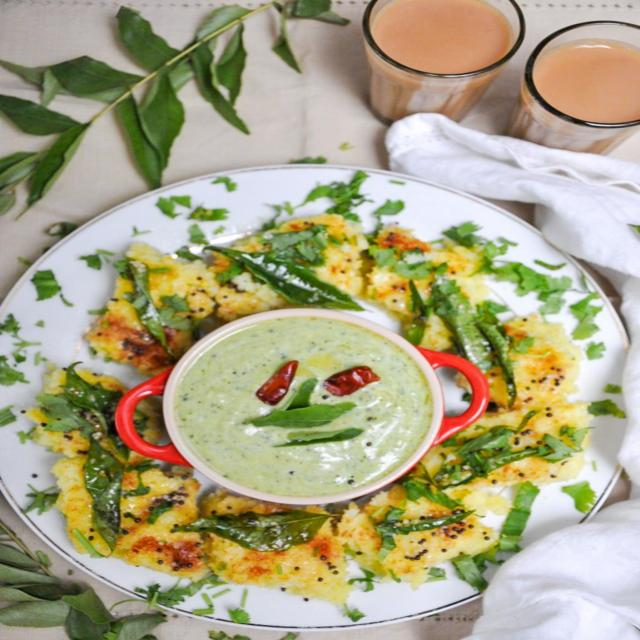dhokla: (23, 182, 597, 586)
